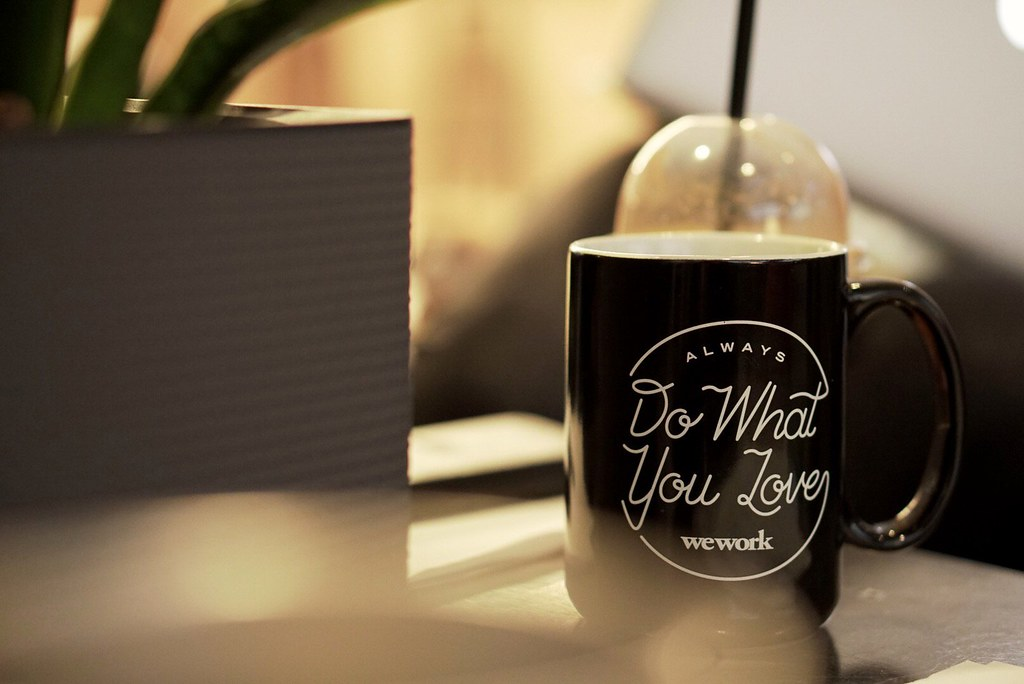wework: (677, 526, 776, 556)
